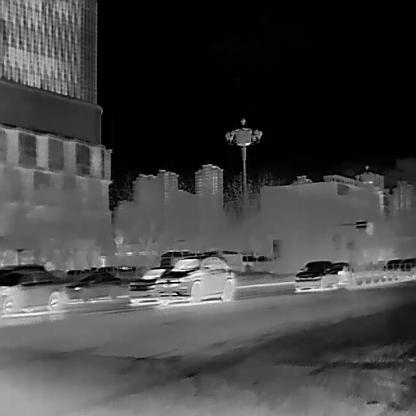car: (153, 254, 238, 305), (0, 269, 65, 313), (65, 271, 129, 302), (128, 267, 173, 296), (294, 260, 332, 291), (320, 261, 354, 290), (159, 250, 191, 268), (383, 258, 403, 270), (399, 257, 415, 271)
